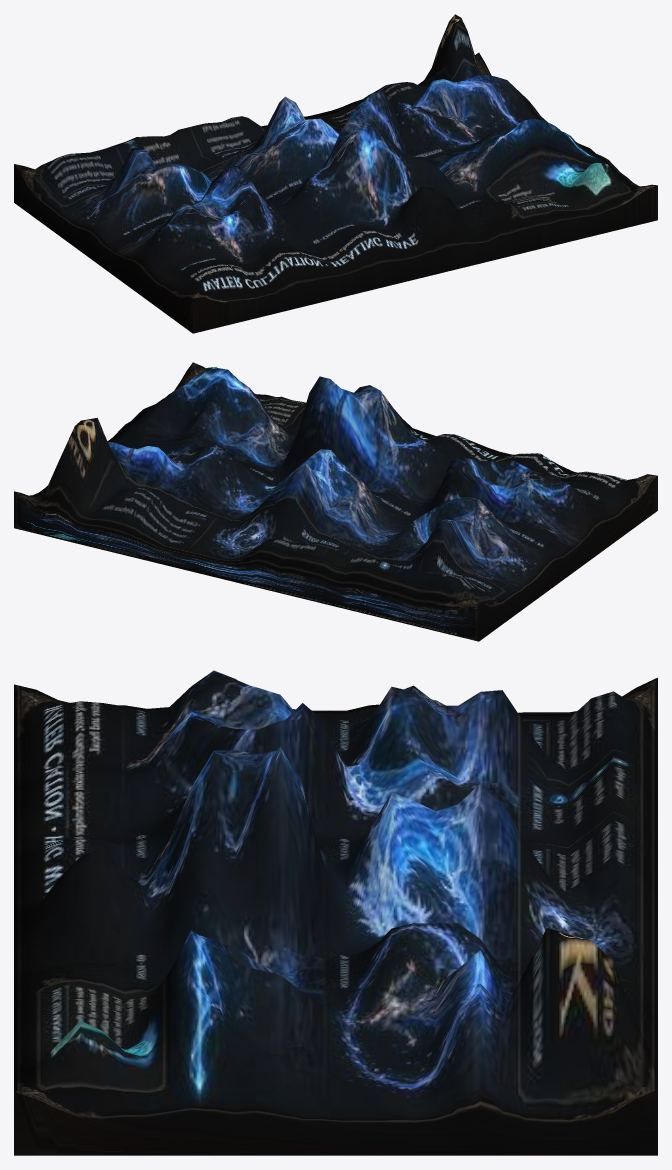
The model's file is CUL_22_Water.glb.
3 renders of one model, top to bottom at view 1: azimuth 30°, elevation 25°; view 2: azimuth 150°, elevation 25°; view 3: azimuth 270°, elevation 25°, orthographic. The views are drawn at different scales.
Visible parts, largest first — view 1: CUL_22_Water; view 2: CUL_22_Water; view 3: CUL_22_Water.
Boxes of the visible parts, <box> form: CUL_22_Water: <box>14,14,657,333</box>; CUL_22_Water: <box>14,362,657,641</box>; CUL_22_Water: <box>14,670,657,1155</box>.
Bounding box in the file's own units: 2 × 0.51 × 1.33.
Materials: 1 (1 with a texture image).
